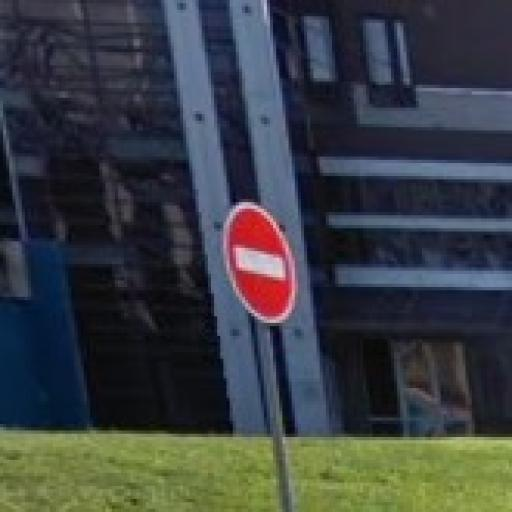traffic_sign: (221, 200, 299, 327)
